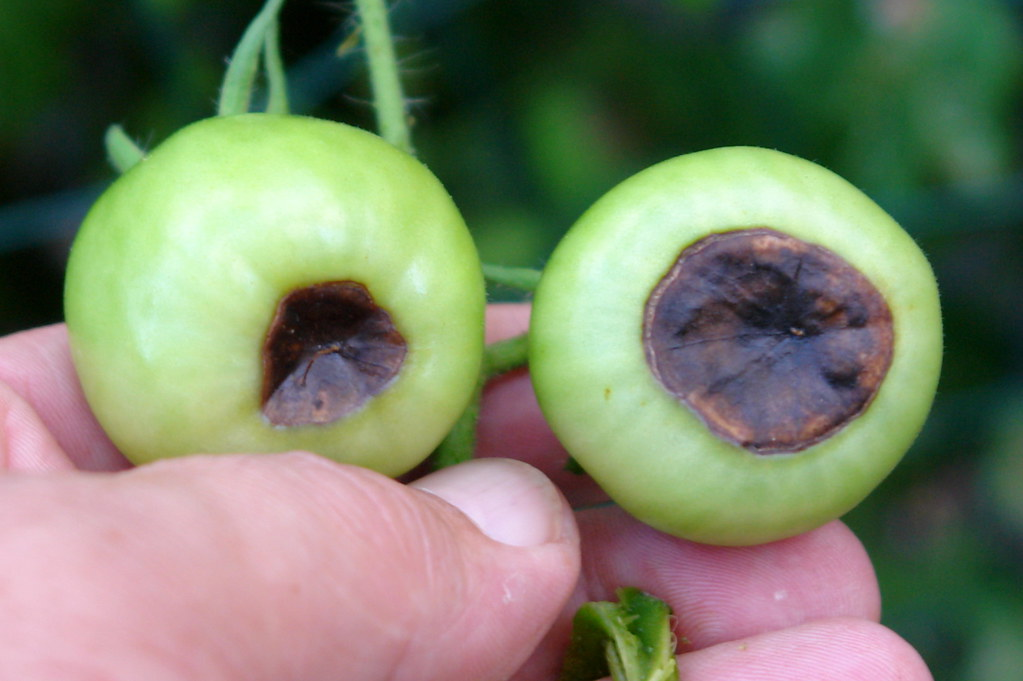blossom_rotw: (639, 206, 916, 468), (253, 247, 428, 432)
